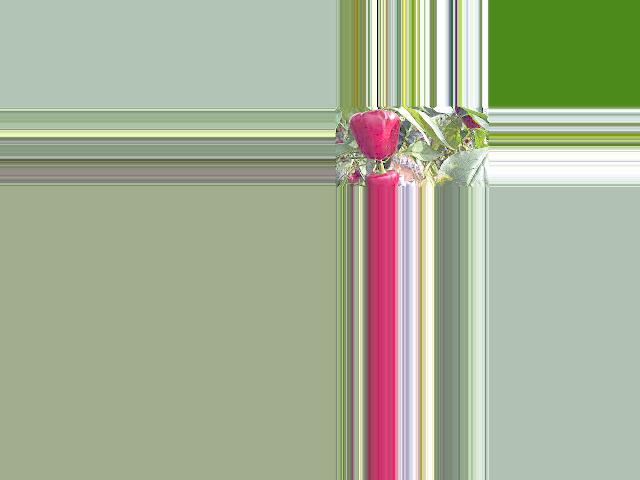bell_pepper: (363, 166, 403, 187)
